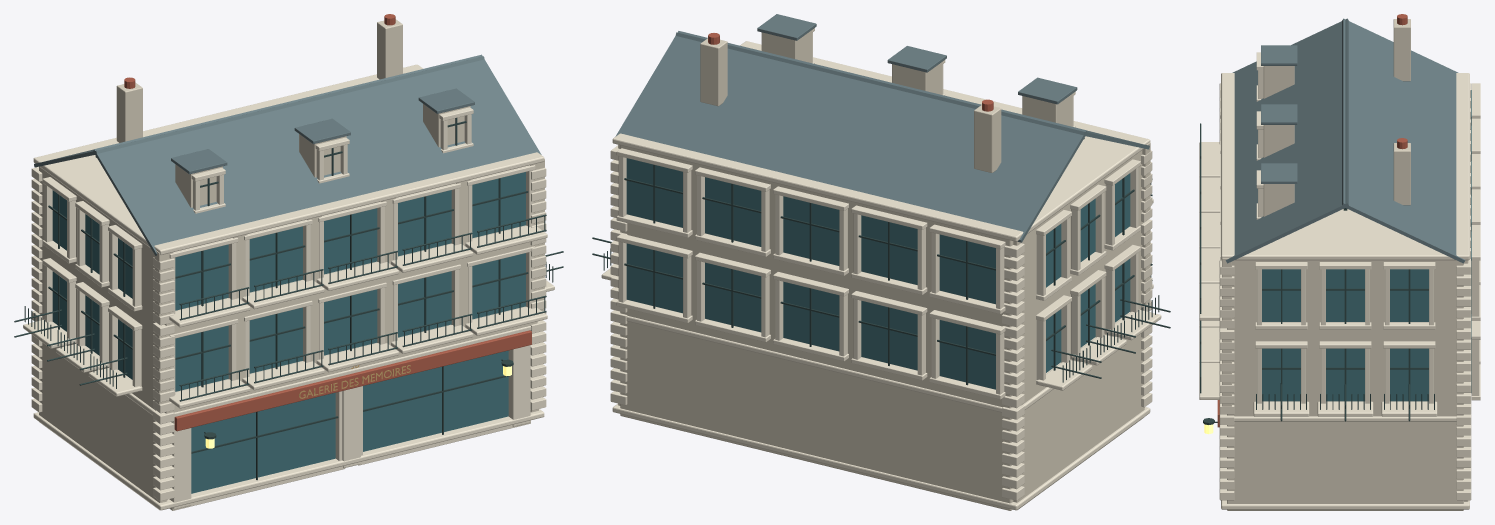
The model's file is Galerie.glb.
3 views of the same model, side by side, from view 1: azimuth 30°, elevation 25°; view 2: azimuth 150°, elevation 25°; view 3: azimuth 270°, elevation 25° (orthographic). The views are drawn at different scales.
Visible parts, largest first — view 1: Galerie_Carved ivory, Galerie_Window blue, Galerie_Zinc slate, Galerie_Paris limestone, Galerie_Forged midnight, Galerie_Terracotta; view 2: Galerie_Paris limestone, Galerie_Carved ivory, Galerie_Zinc slate, Galerie_Window blue, Galerie_Forged midnight; view 3: Galerie_Carved ivory, Galerie_Paris limestone, Galerie_Zinc slate, Galerie_Window blue, Galerie_Forged midnight.
Part boxes in pixels (box(x1,y1,x2,y2)): Galerie_Carved ivory: box(23, 64, 554, 510); Galerie_Window blue: box(52, 172, 525, 493); Galerie_Zinc slate: box(34, 54, 541, 255); Galerie_Paris limestone: box(39, 19, 544, 509); Galerie_Forged midnight: box(14, 118, 563, 480); Galerie_Terracotta: box(124, 14, 531, 431); Galerie_Paris limestone: box(618, 30, 1150, 510); Galerie_Carved ivory: box(601, 28, 1161, 510); Galerie_Zinc slate: box(615, 14, 1149, 242); Galerie_Window blue: box(626, 158, 1130, 389); Galerie_Forged midnight: box(592, 138, 1170, 385); Galerie_Carved ivory: box(1199, 52, 1480, 509); Galerie_Paris limestone: box(1222, 19, 1468, 510); Galerie_Zinc slate: box(1225, 18, 1465, 263); Galerie_Window blue: box(1262, 90, 1471, 401); Galerie_Forged midnight: box(1200, 123, 1434, 424).
Bounding box in the file's own units: 29.91 × 20.82 × 15.45.
